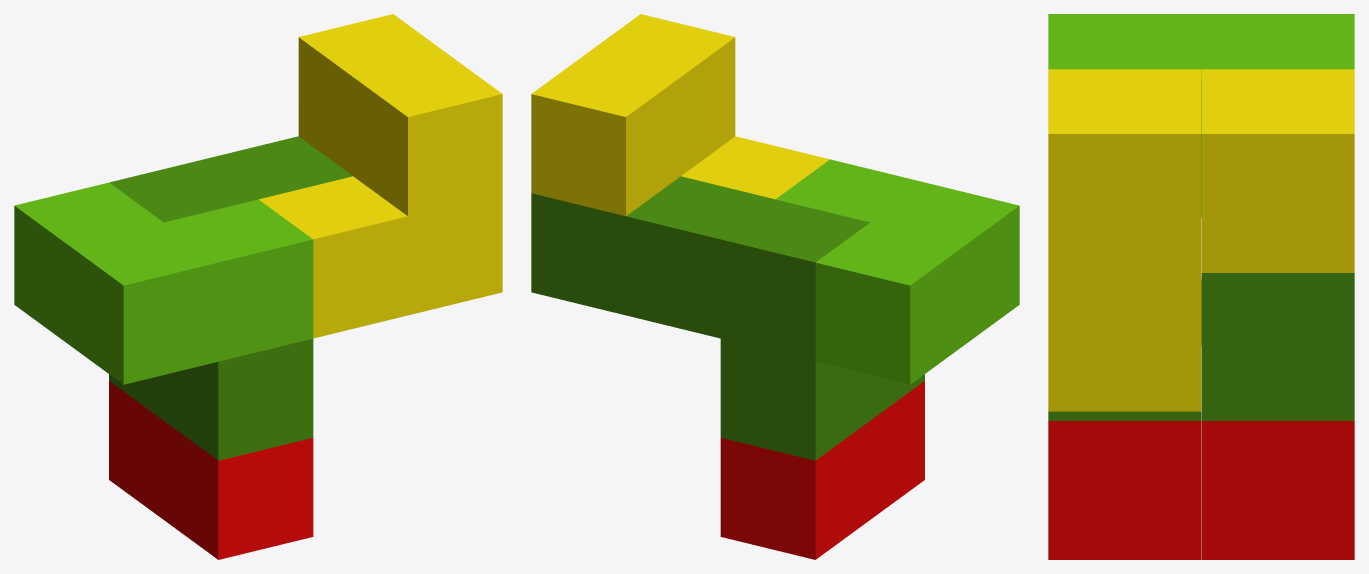
3 views of the same model, side by side, from view 1: azimuth 30°, elevation 25°; view 2: azimuth 150°, elevation 25°; view 3: azimuth 270°, elevation 25° (orthographic). The views are drawn at different scales.
Parts seen in each view (by area): view 1: mergedBlocks(Clone); view 2: mergedBlocks(Clone); view 3: mergedBlocks(Clone).
Boxes of the visible parts, x1,y1,x2,y2 form: mergedBlocks(Clone): [14, 14, 502, 559]; mergedBlocks(Clone): [531, 14, 1019, 559]; mergedBlocks(Clone): [1048, 14, 1354, 559].
Size of the model in its own units: 4 by 4 by 2.
4 materials, 4 textured.
